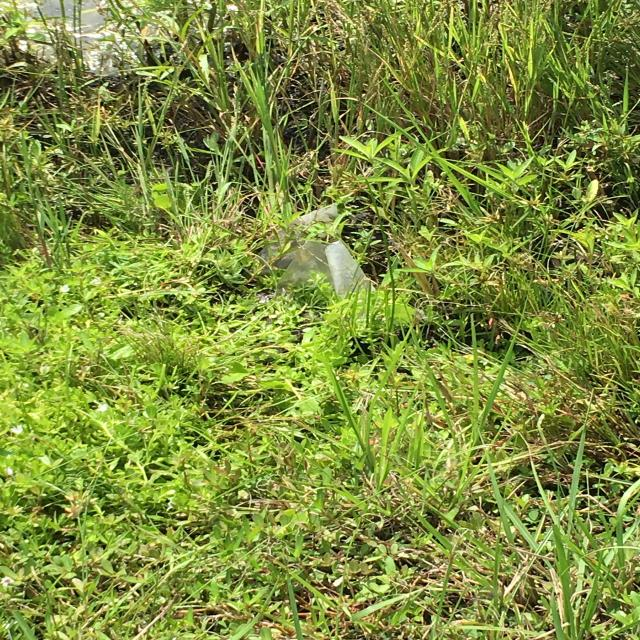litter: (257, 204, 377, 300)
